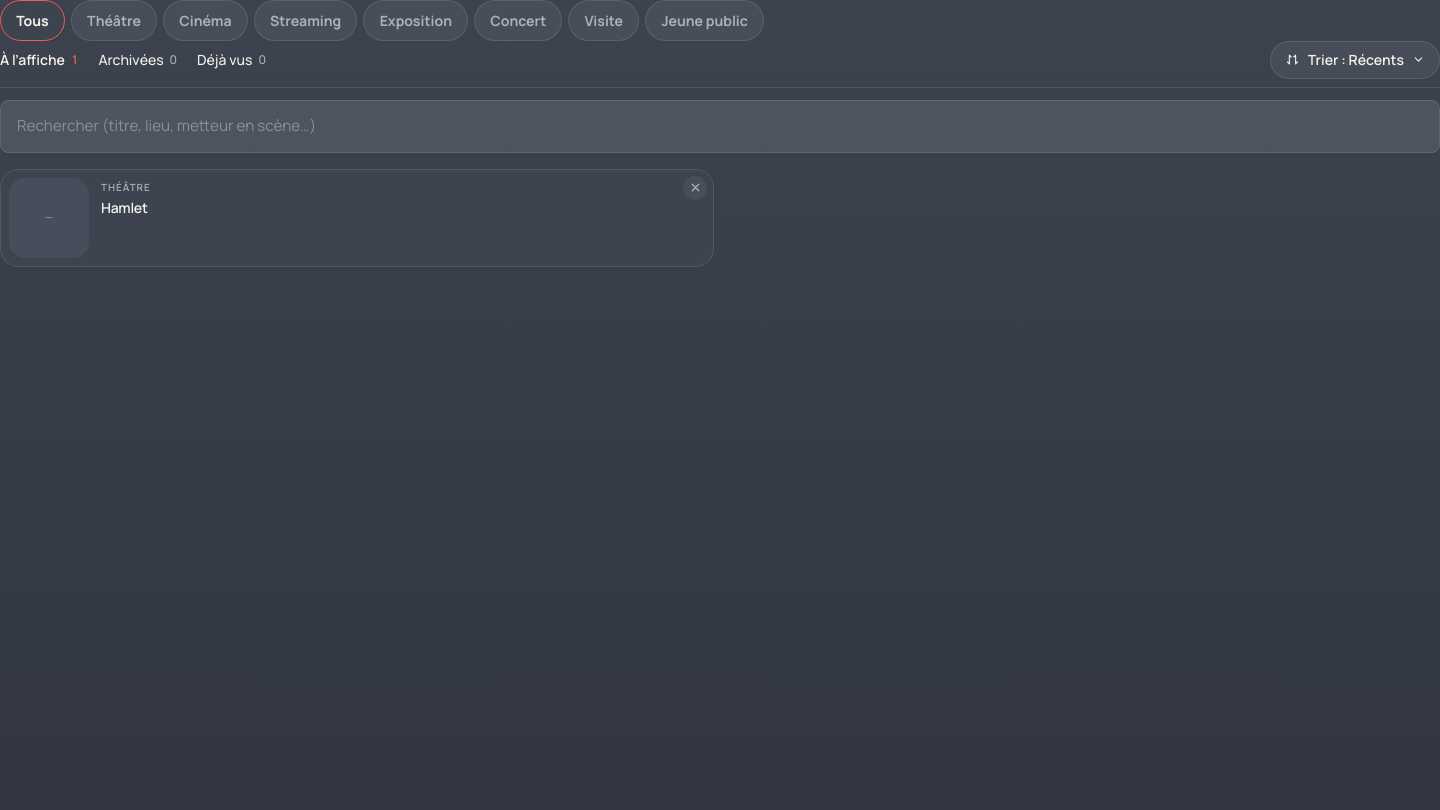
Test case: LikesLibrary › « Annuler » restaure la carte et poste LIKE
The image size is (1440, 810).
What coordinates should you click on to do the following:
click the button with aria-label "Voir le détail de Hamlet"
I would click on:
 (49, 218)
Its box is [1, 170, 713, 266].
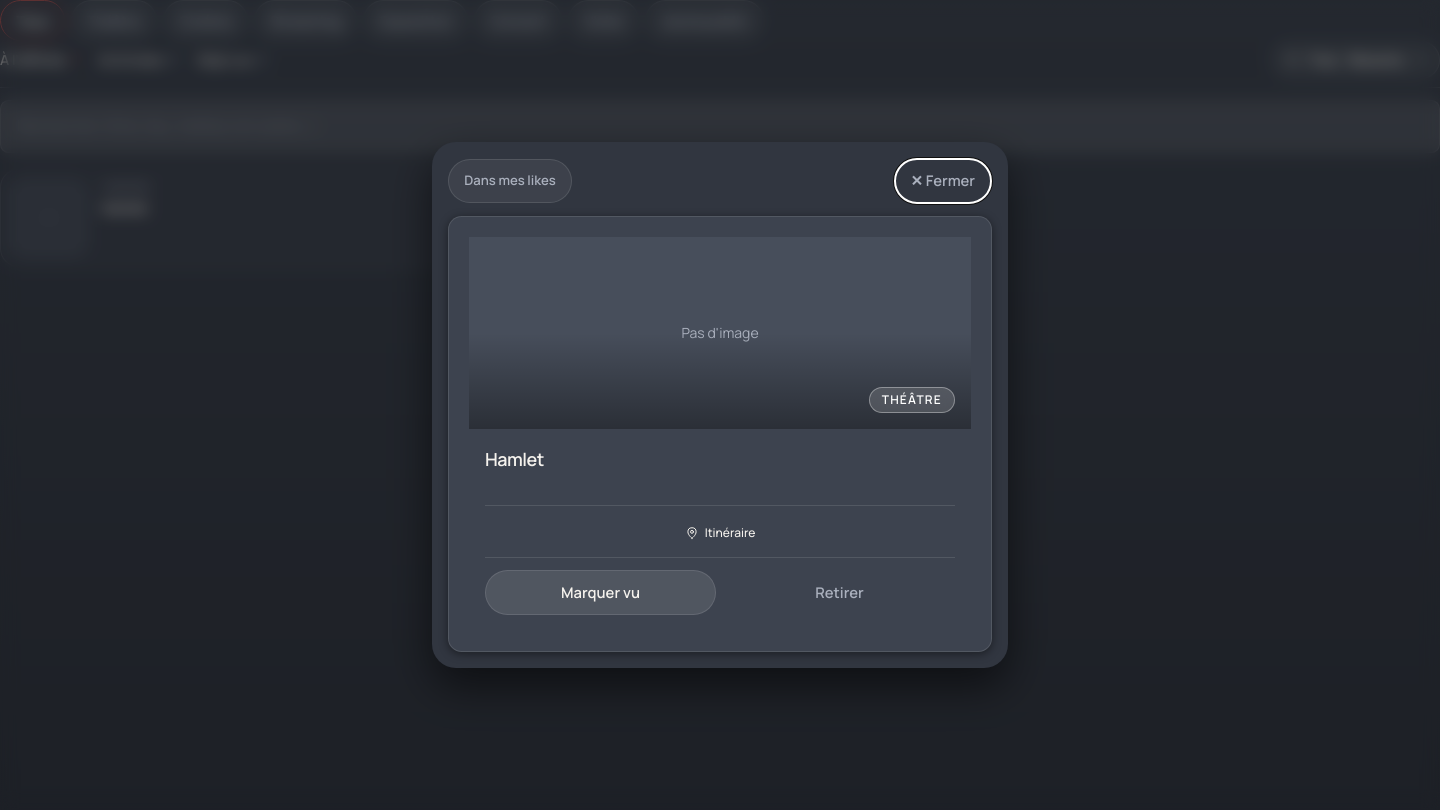
What coordinates should you click on to do the following:
click the button "Retirer"
I would click on:
 (840, 592)
Its box is [724, 570, 955, 615].
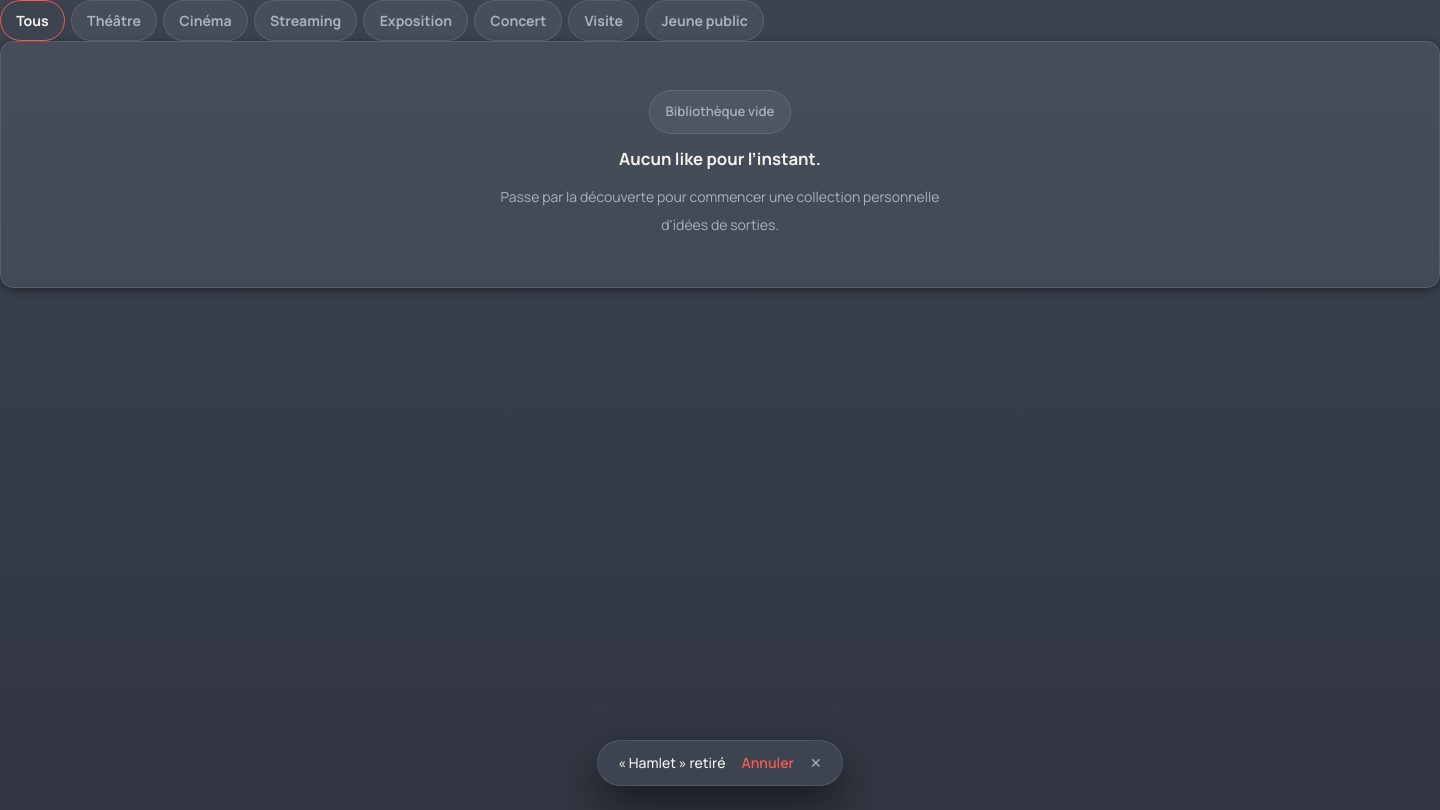
What coordinates should you click on to do the following:
click the button "Annuler"
I would click on:
 (768, 763)
Its box is [742, 753, 794, 773].
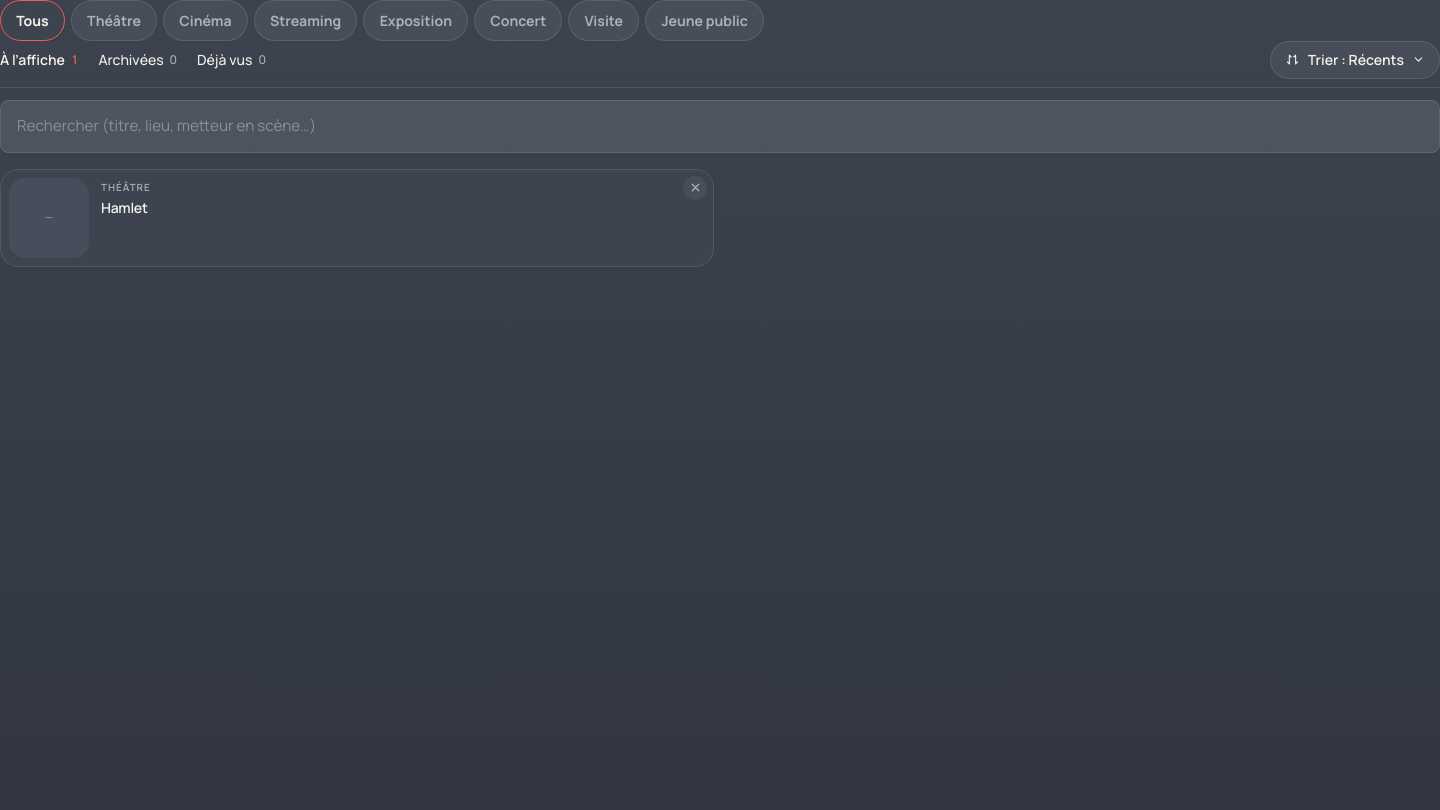
expect the button with aria-label "Voir le détail de Hamlet" is shown: met, box [1, 170, 713, 266]
